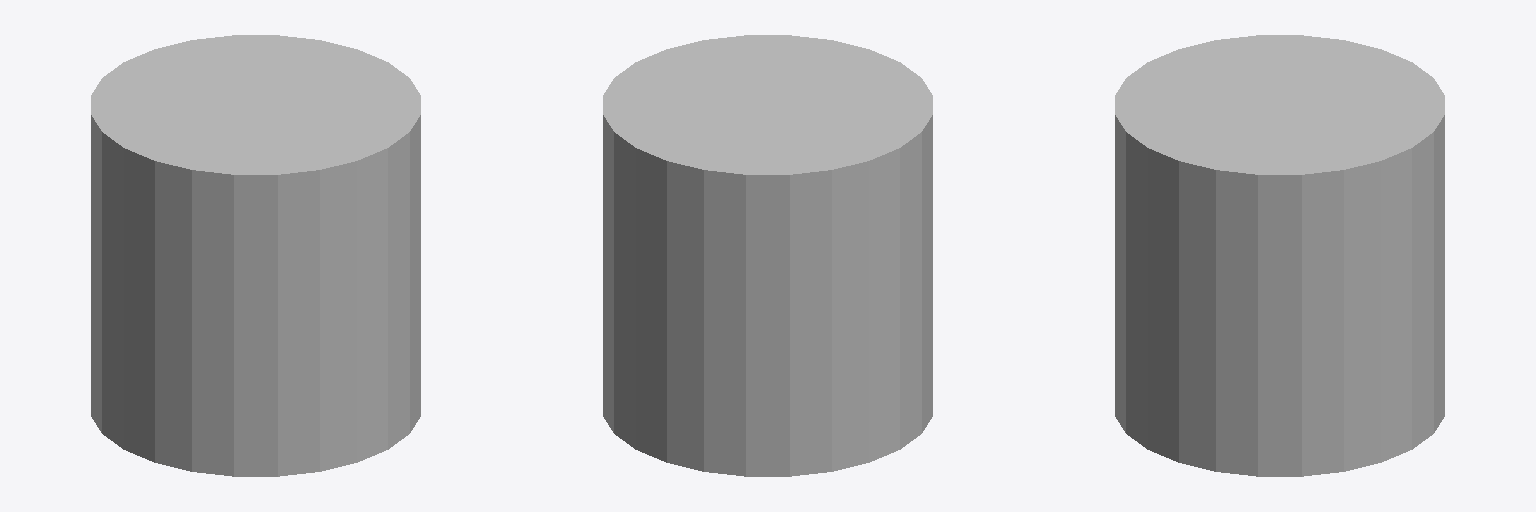
The model's file is S1TL2Collider.obj.
3 renders of one model, left to right at view 1: azimuth 30°, elevation 25°; view 2: azimuth 150°, elevation 25°; view 3: azimuth 270°, elevation 25°, orthographic.
Visible parts, largest first — view 1: S1TL2Collider; view 2: S1TL2Collider; view 3: S1TL2Collider.
Boxes of the visible parts, x1,y1,x2,y2 form: S1TL2Collider: [91, 35, 420, 476]; S1TL2Collider: [603, 35, 932, 476]; S1TL2Collider: [1115, 35, 1444, 476].
Bounding box in the file's own units: 1.24 × 1.25 × 1.24.